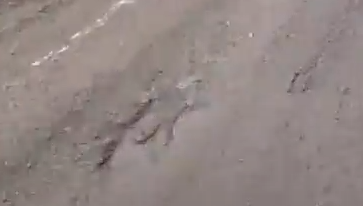Berlubang: (117, 53, 193, 152), (23, 113, 94, 206), (1, 109, 58, 206), (3, 1, 78, 70), (150, 33, 209, 118), (81, 104, 137, 181), (275, 51, 324, 103), (333, 79, 351, 128)
